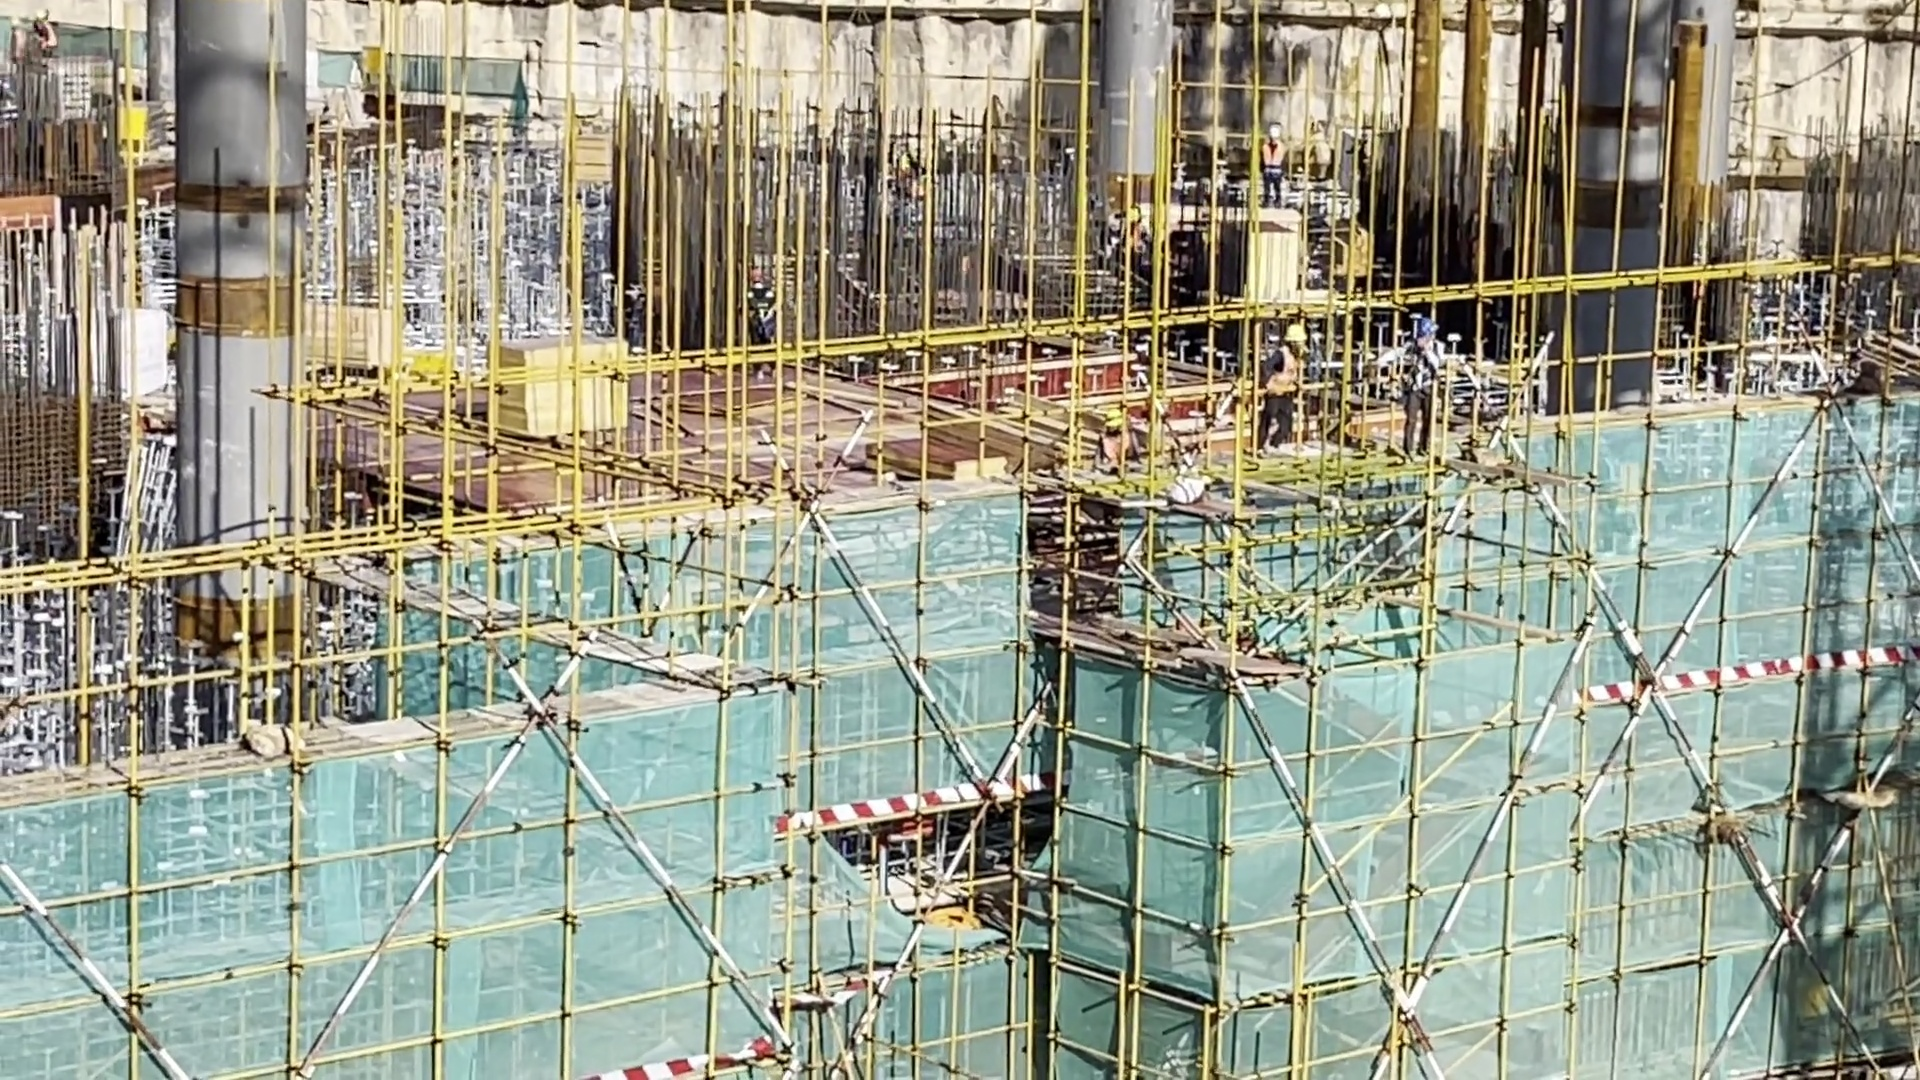board: (533, 327, 641, 444), (869, 411, 983, 494), (578, 132, 621, 196)
helmet: (1283, 321, 1311, 347), (1414, 319, 1434, 339), (598, 271, 615, 293), (749, 272, 767, 287), (1104, 411, 1120, 428), (1131, 206, 1146, 221), (11, 7, 27, 19), (1270, 124, 1279, 140), (35, 10, 45, 20)
person: (1390, 309, 1441, 456), (1259, 307, 1310, 449), (744, 261, 790, 398), (594, 276, 652, 353), (1253, 117, 1287, 214), (1112, 192, 1154, 255), (1104, 415, 1154, 466), (33, 9, 58, 58), (8, 6, 29, 63)
vest: (1403, 346, 1439, 394), (1259, 354, 1296, 397), (750, 287, 774, 337), (624, 279, 649, 323), (1257, 139, 1291, 169), (1103, 433, 1140, 456), (9, 22, 32, 54), (41, 22, 57, 51)
wood: (956, 407, 1139, 491), (321, 294, 416, 377)
